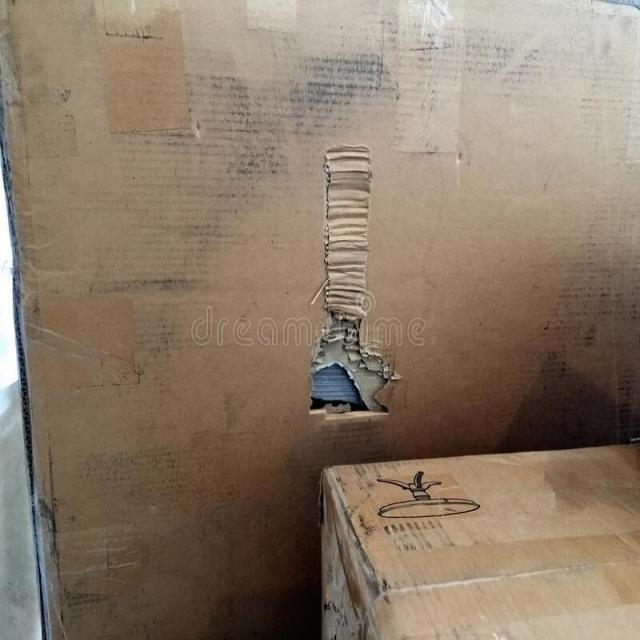hole: (307, 318, 397, 440)
